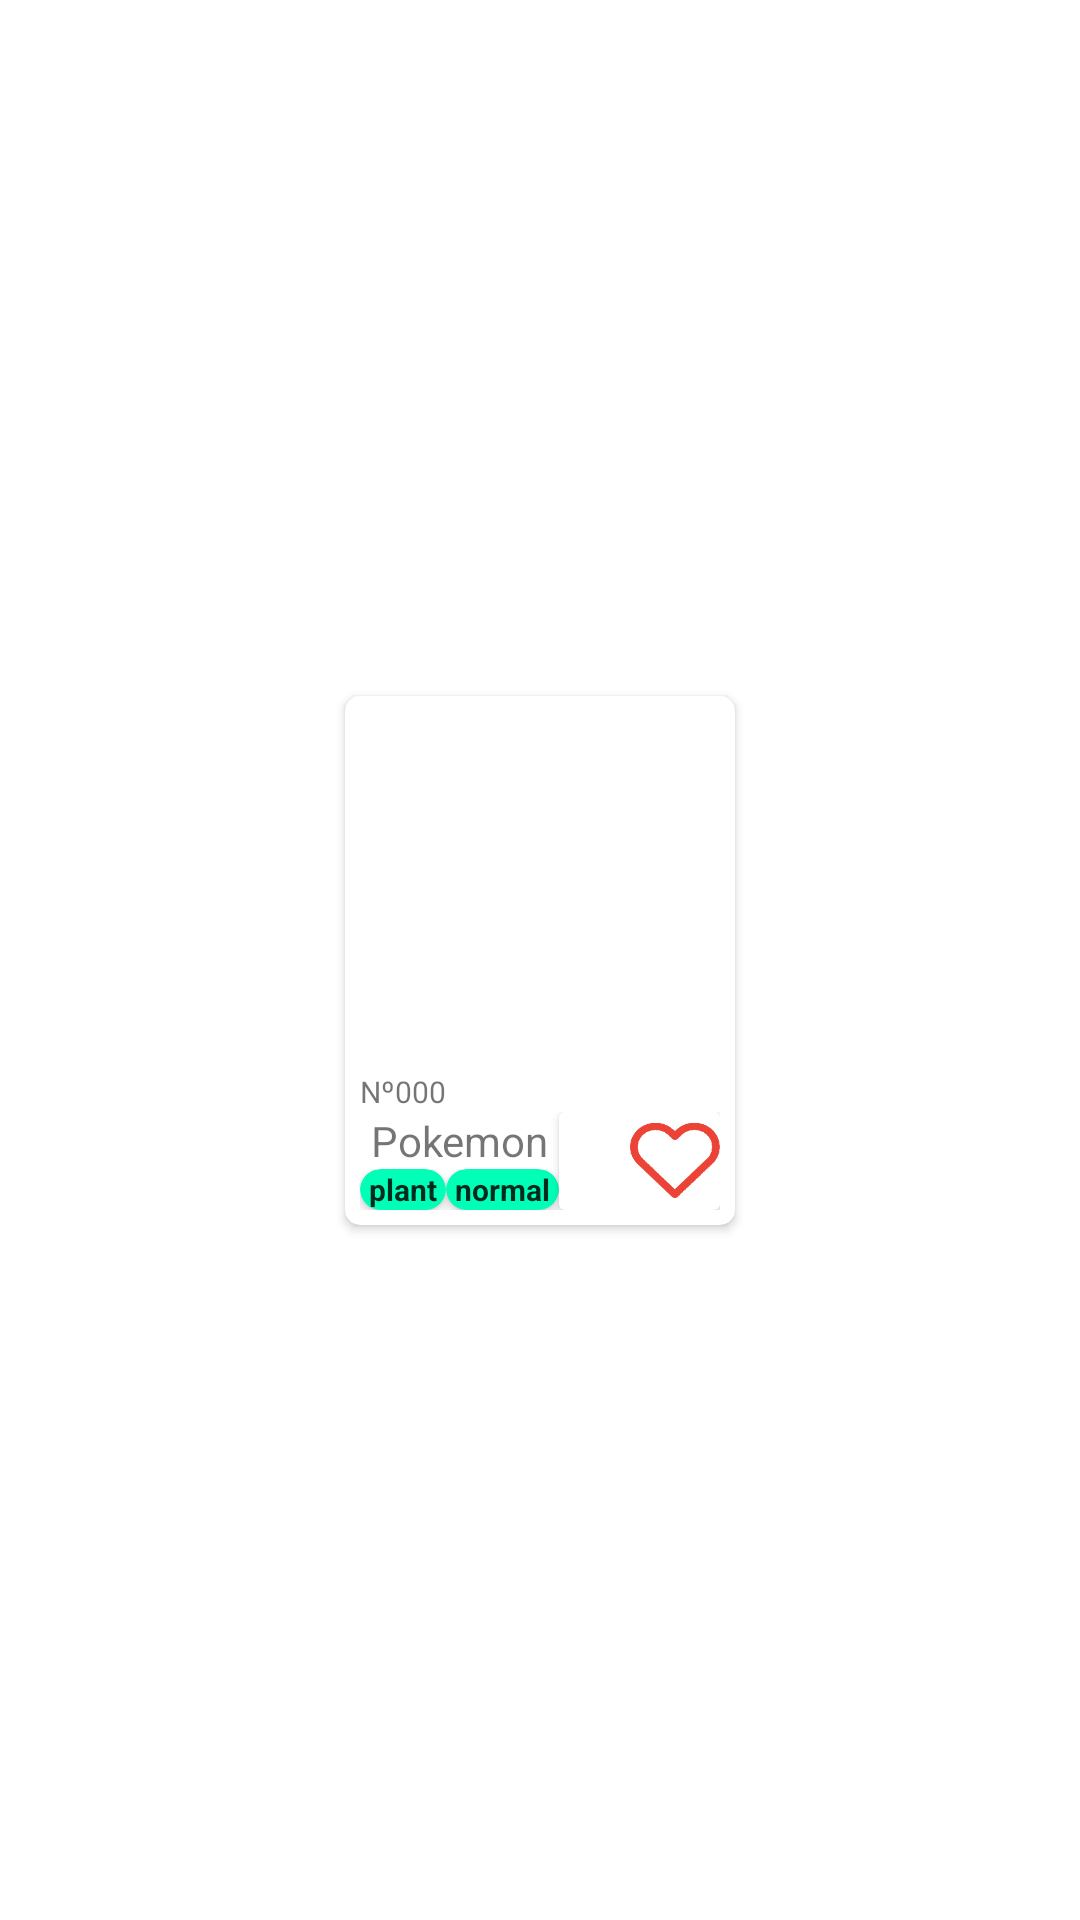

Point at icon controls on the screen. Image size 1080 x 1920, points as point (x, y).
favoff: point (675, 1160)
